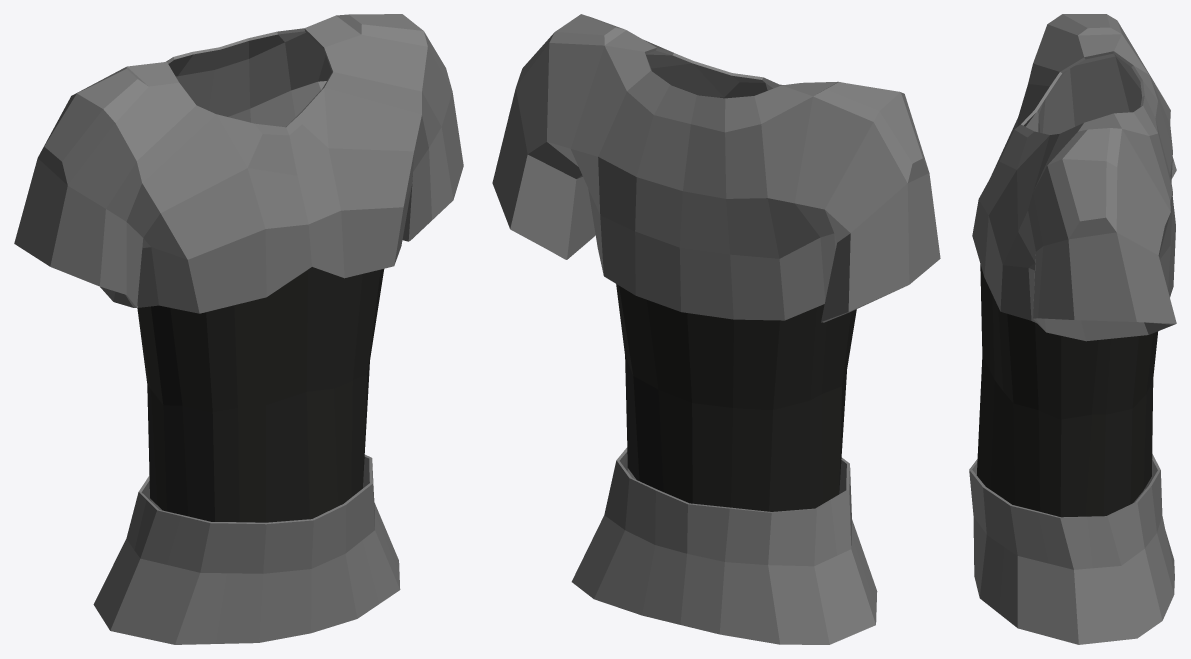
Rendered from Breastplate_01.fbx.
The picture shows the model from 3 angles, left to right: view 1: azimuth 30°, elevation 25°; view 2: azimuth 150°, elevation 25°; view 3: azimuth 270°, elevation 25°; orthographic projection. The views are drawn at different scales.
Visible parts, largest first — view 1: Breastplate_01; view 2: Breastplate_01; view 3: Breastplate_01.
Part boxes in pixels (left/top/right/bottom): Breastplate_01: left=14, top=14, right=463, bottom=644; Breastplate_01: left=492, top=14, right=940, bottom=644; Breastplate_01: left=969, top=14, right=1176, bottom=644.
Size of the model in its own units: 45.69 by 56.71 by 21.21.
